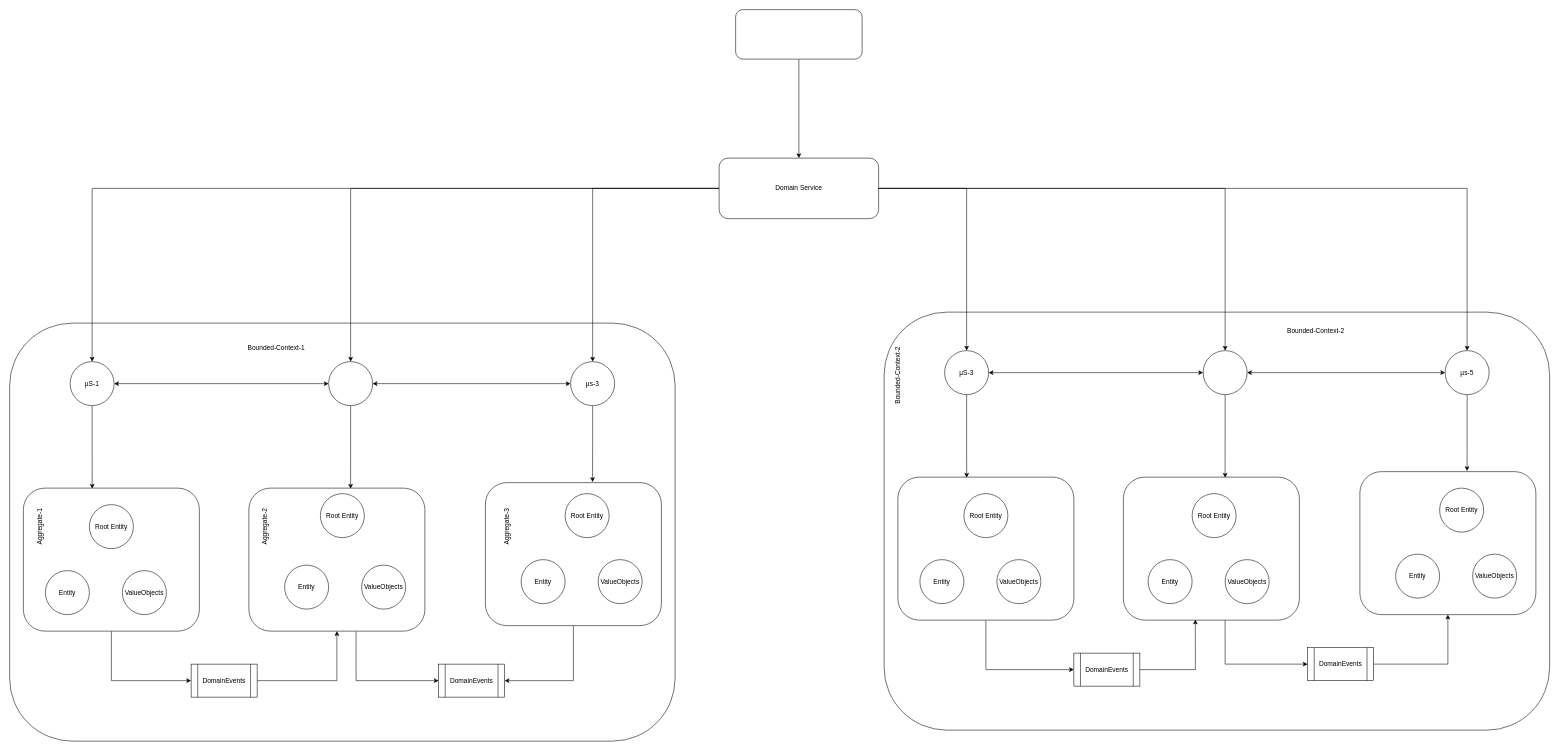
This 1559x751 diagram has some shape labels left out. The shapes that lost their labels are listed below. From the top down, each one's box as (x1, y1, x2, y2) in pixels, then its label:
(735, 9, 862, 59): Application Services
(328, 361, 373, 406): µS-2
(1203, 350, 1247, 395): µS-4
